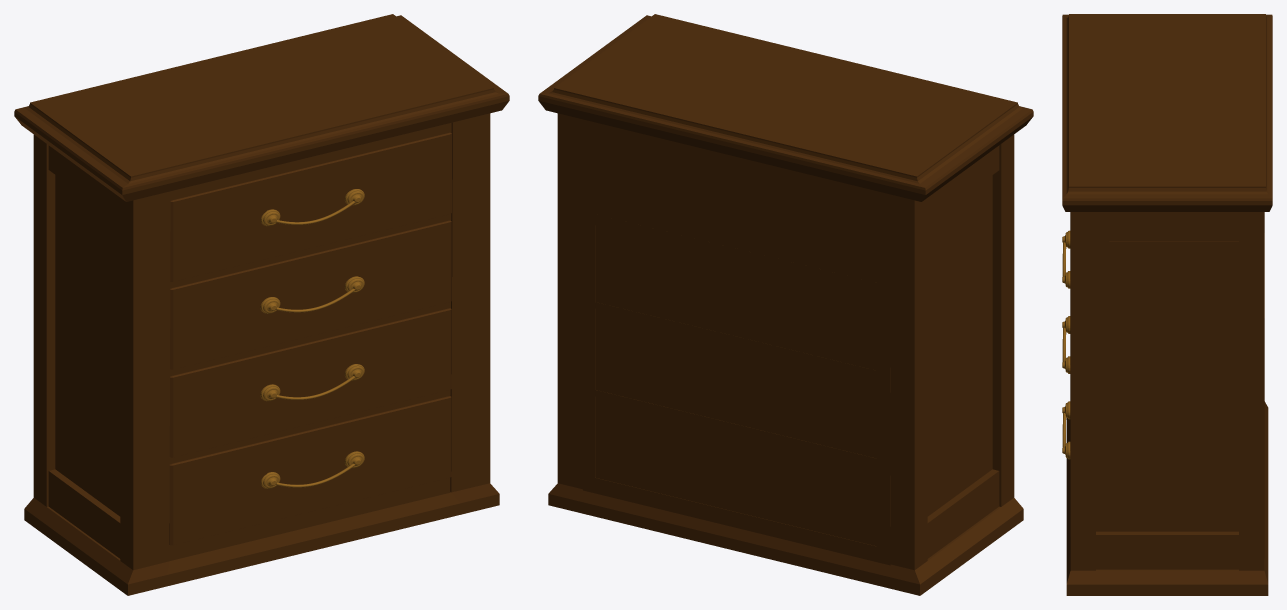
Rendered from Dresser_final.fbx.
The picture shows the model from 3 angles, left to right: view 1: azimuth 30°, elevation 25°; view 2: azimuth 150°, elevation 25°; view 3: azimuth 270°, elevation 25°; orthographic projection. The views are drawn at different scales.
Parts seen in each view (by area): view 1: Dresser, Drawer_4, Drawer_3, Drawer_2, Drawer_1; view 2: Dresser; view 3: Dresser, Drawer_3, Drawer_4, Drawer_2.
Part boxes in pixels (bbox=[...]): Dresser: bbox=[14, 14, 509, 595]; Drawer_4: bbox=[169, 396, 451, 545]; Drawer_3: bbox=[169, 308, 451, 457]; Drawer_2: bbox=[170, 220, 451, 369]; Drawer_1: bbox=[170, 132, 451, 281]; Dresser: bbox=[538, 14, 1033, 595]; Dresser: bbox=[1062, 14, 1272, 595]; Drawer_3: bbox=[1062, 316, 1070, 450]; Drawer_4: bbox=[1062, 401, 1070, 536]; Drawer_2: bbox=[1062, 230, 1070, 364].
Size of the model in its own units: 569 by 585 by 274.
